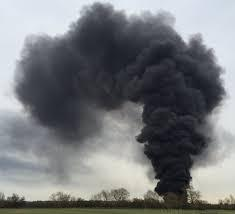smoke: (11, 2, 235, 197)
